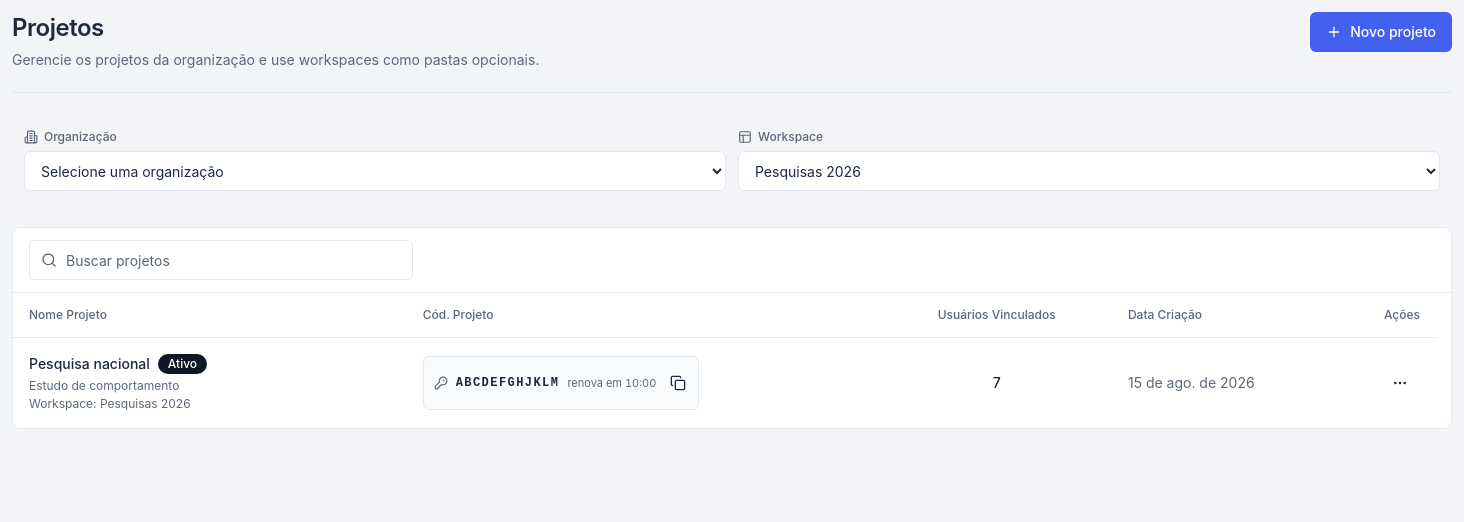
Test: ProjectsPage › exibe projetos em tabela e concentra as ações no menu de três pontos
Check: the column heading "Nome Projeto" is shown, box left=13, top=293, right=407, bottom=337
Check: the column heading "Cód. Projeto" is shown, box left=407, top=293, right=881, bottom=337
Step 1. Click the button named "Ações: Pesquisa nacional" → (1400, 382), box left=1380, top=362, right=1420, bottom=402
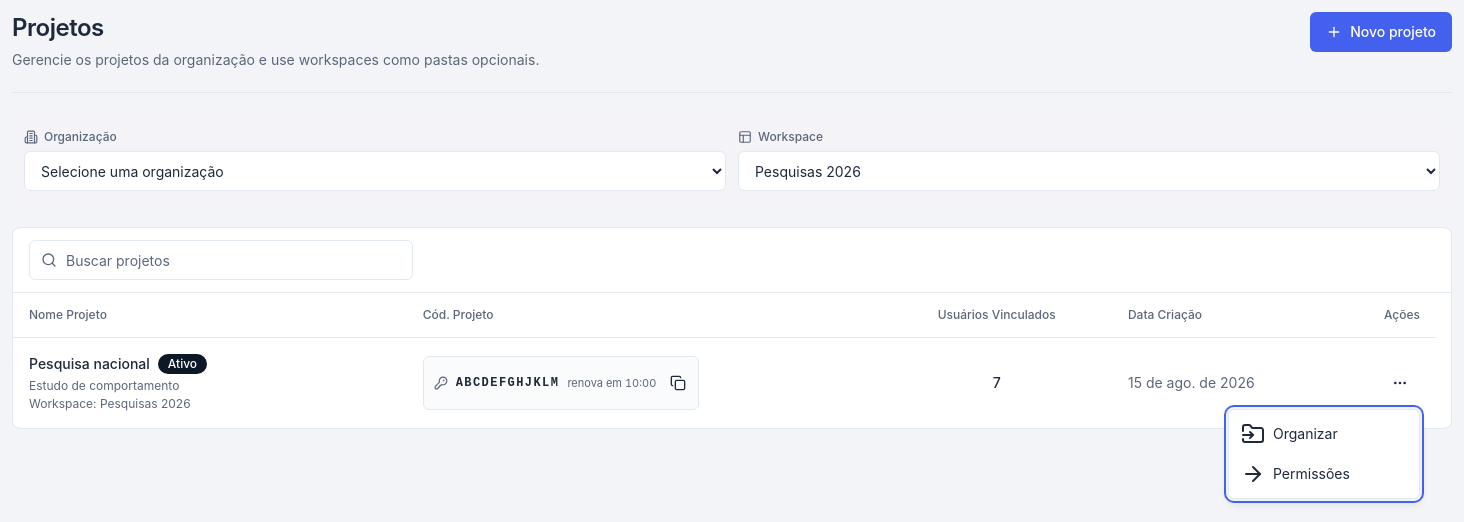
Check: the menu item "Organizar" is shown, box left=1241, top=422, right=1338, bottom=446
